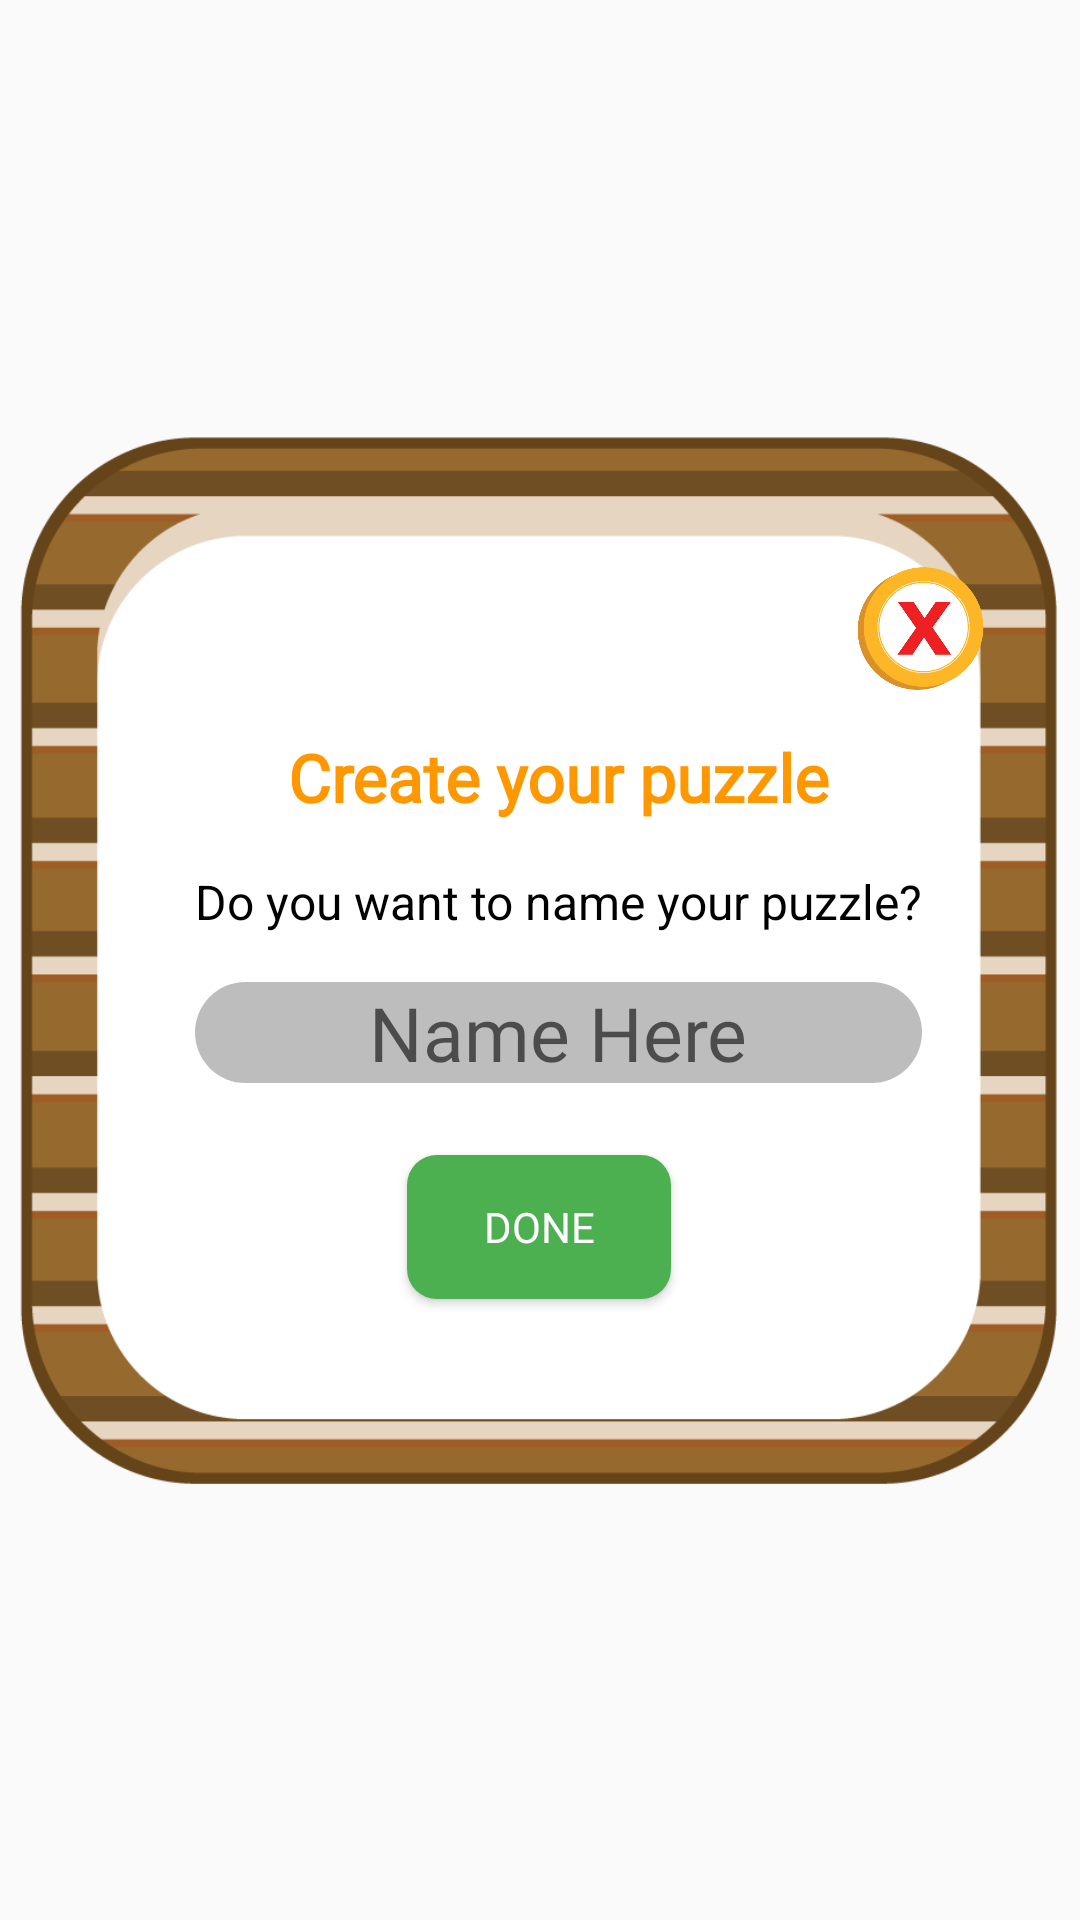

Screen size 1080*1920. Icon name, then its center in pixels as (x,y):
canclebtn: (921,627)
